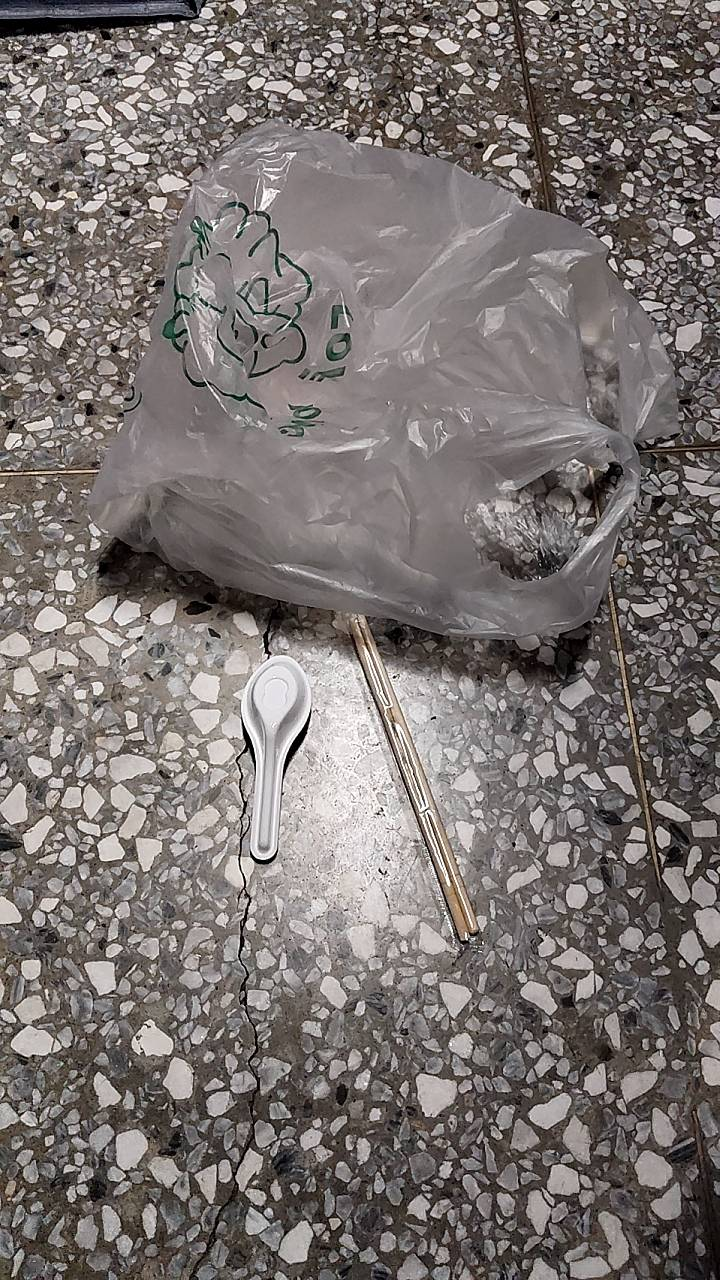General waste: (290, 560, 548, 988)
plastic: (83, 120, 690, 650), (158, 605, 358, 895)
